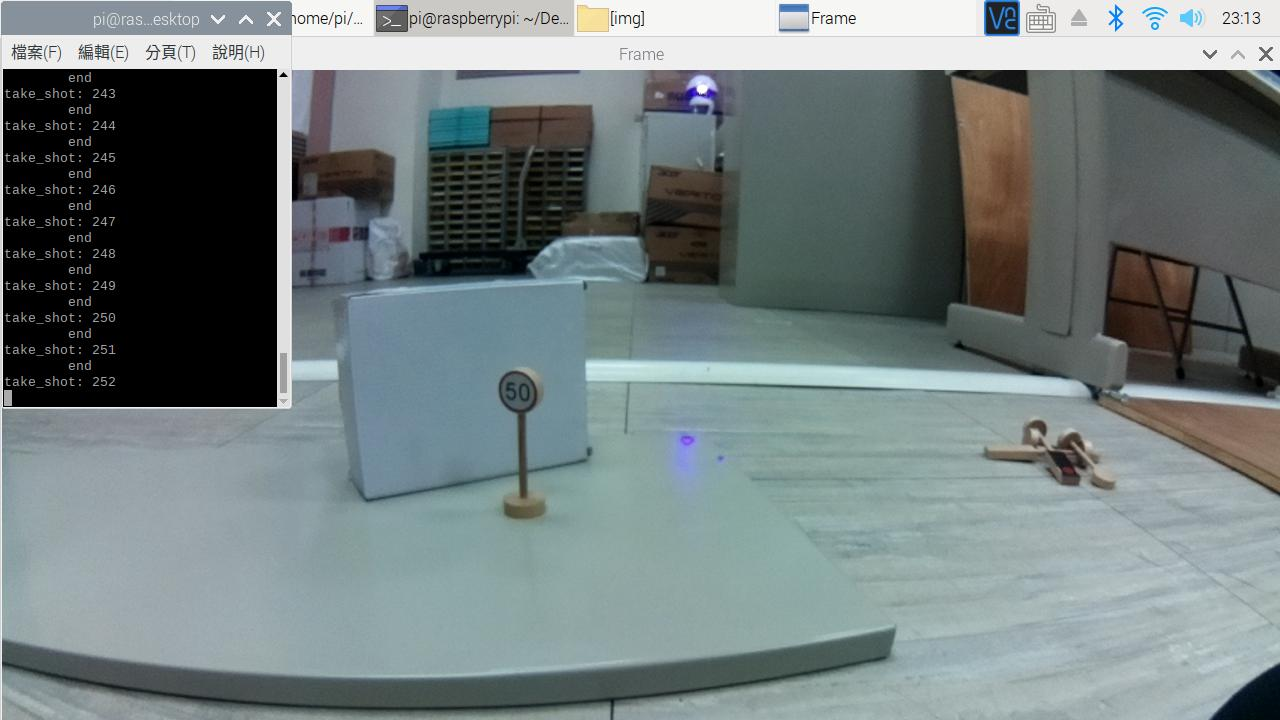Speed50: (494, 365, 555, 430)
